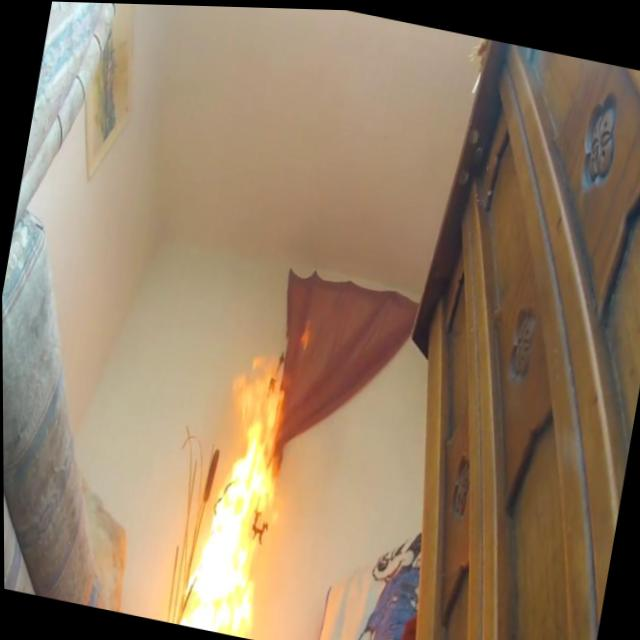fire: (170, 340, 304, 639)
